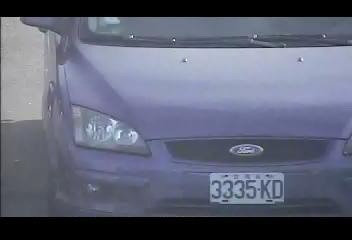plate: (207, 171, 285, 206)
